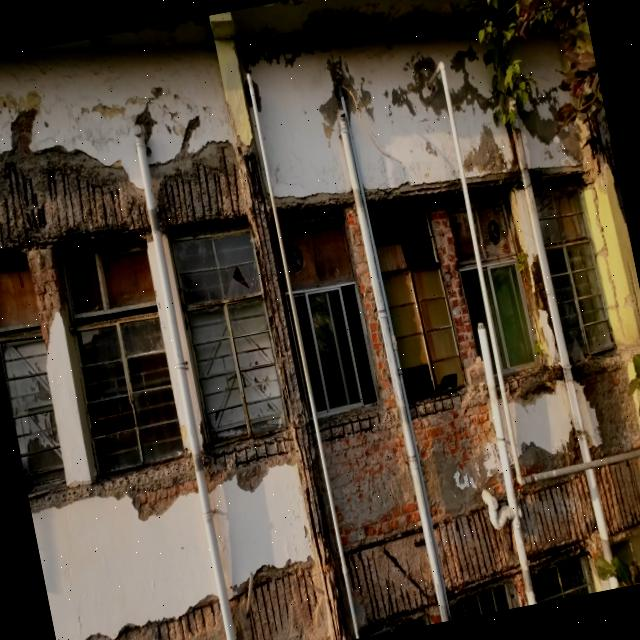Incomplete Plaster Work: (575, 354, 640, 454)
Spalling: (0, 149, 150, 254), (435, 495, 521, 604), (346, 529, 435, 627), (346, 535, 436, 628), (155, 143, 247, 232), (517, 472, 596, 570), (231, 560, 324, 640), (68, 595, 224, 640), (595, 460, 640, 542)
exposed brickwork: (324, 203, 420, 550), (413, 200, 505, 522)
